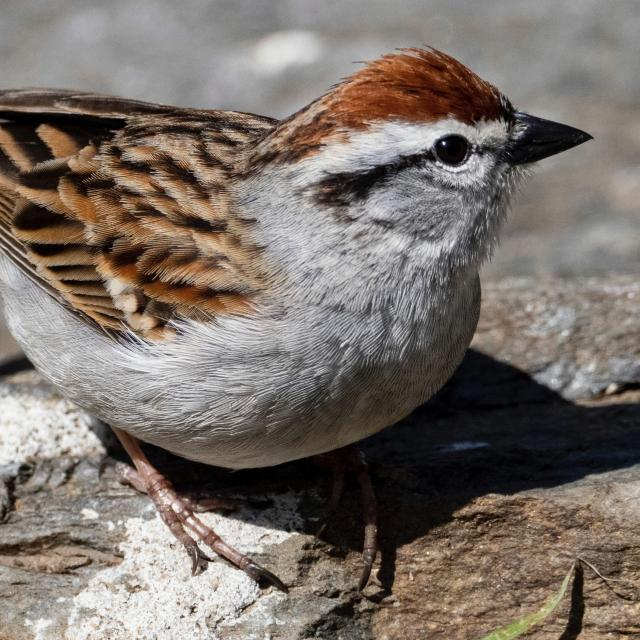sparrow: (0, 48, 592, 579)
